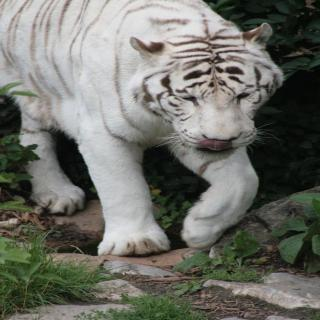Tiger: (0, 0, 282, 255)
